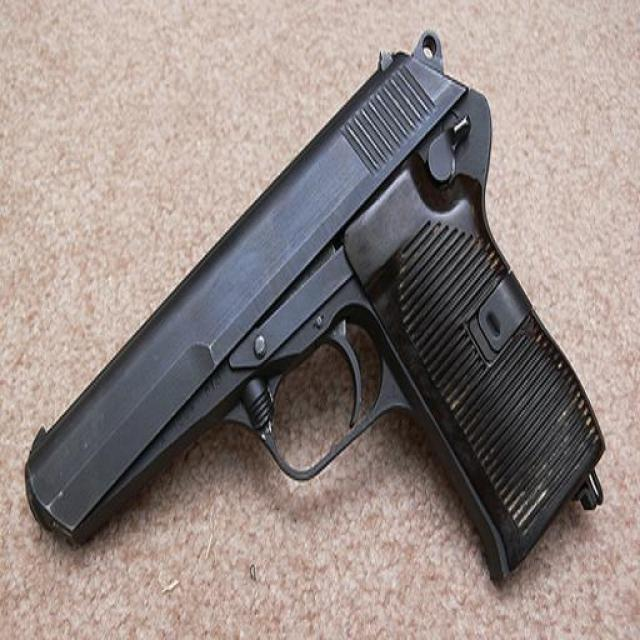pistol: (23, 36, 609, 552)
